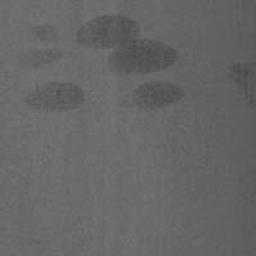Oil spot: (72, 13, 182, 78), (10, 22, 64, 72), (20, 79, 88, 115), (128, 79, 189, 116)
